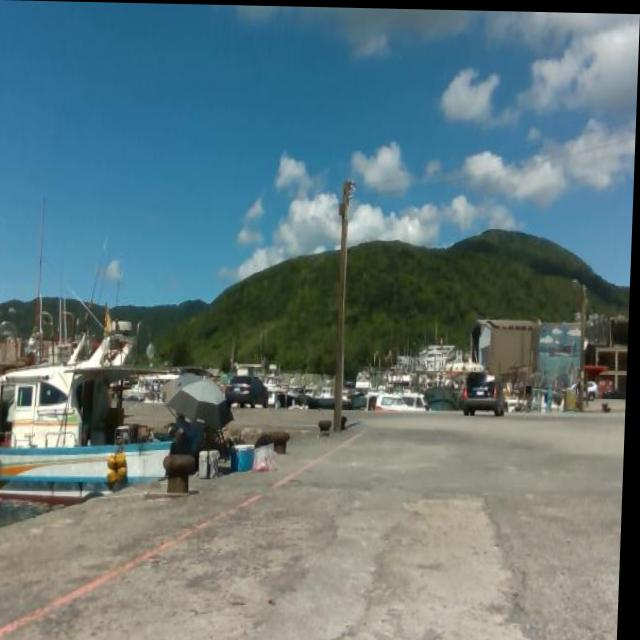pollute: (251, 440, 283, 474)
